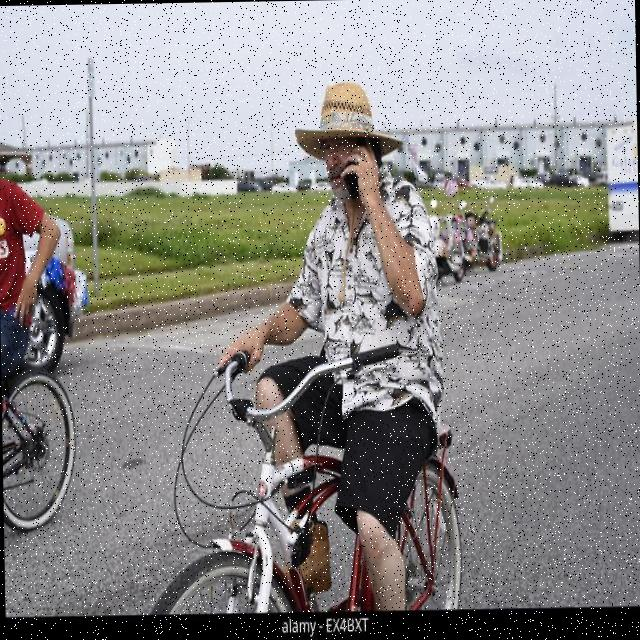Using mobile: (279, 60, 446, 305)
